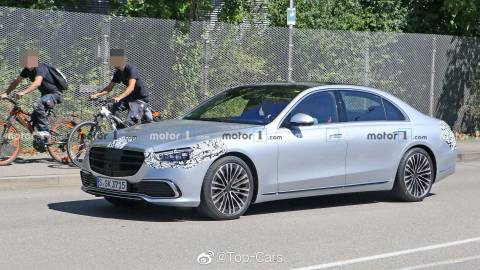other: (74, 79, 458, 217)
